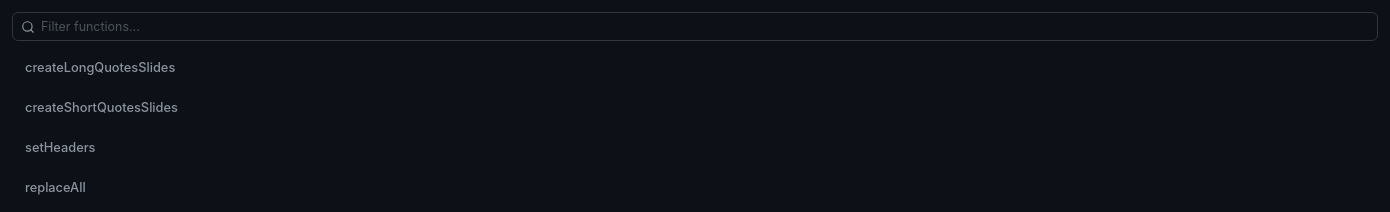
Test: FunctionSelector › shows no-match message when search has no results
Type "zzzzz" into the field with placeholder "Filter functions..." at {"x": 695, "y": 26}, box [12,12,1378,41]
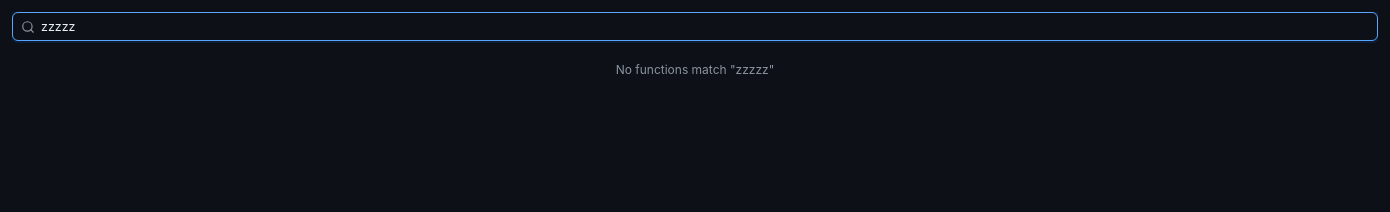
Expected: the text "No functions match \"zzzzz\"" is shown, [616,62,774,77]
